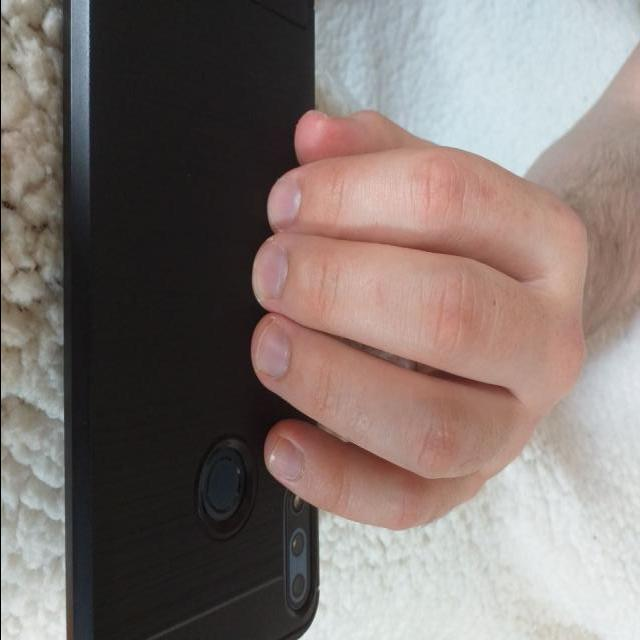Nail: (254, 321, 289, 379), (268, 178, 301, 229), (266, 438, 304, 481), (259, 244, 288, 299)
